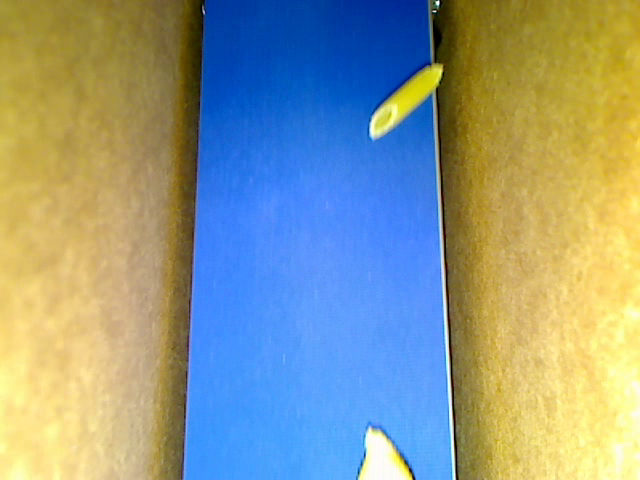penne: (367, 62, 445, 140)
shell: (354, 423, 414, 479)
